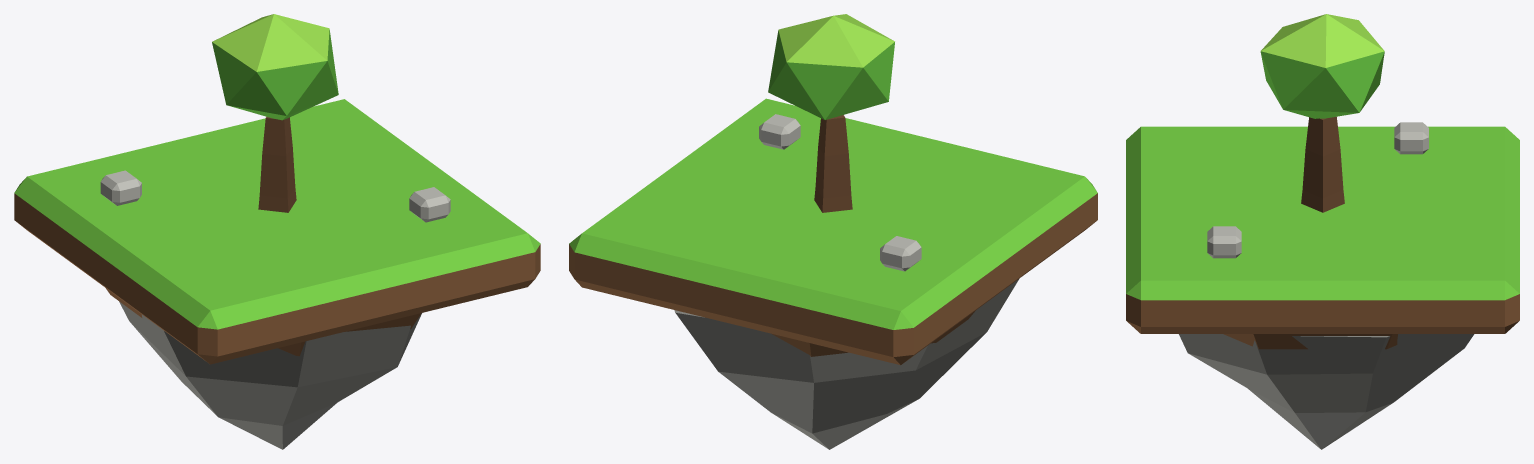
Rendered from FloatingIsland.fbx.
3 renders of one model, left to right at view 1: azimuth 30°, elevation 25°; view 2: azimuth 150°, elevation 25°; view 3: azimuth 270°, elevation 25°, orthographic.
Parts seen in each view (by area): view 1: FloatingIsland; view 2: FloatingIsland; view 3: FloatingIsland.
Boxes of the visible parts, x1,y1,x2,y2 form: FloatingIsland: (14,14,540,449); FloatingIsland: (569,14,1097,449); FloatingIsland: (1126,14,1519,449).
Bounding box in the file's own units: 8 × 9.7 × 8.
1 material, 1 textured.
